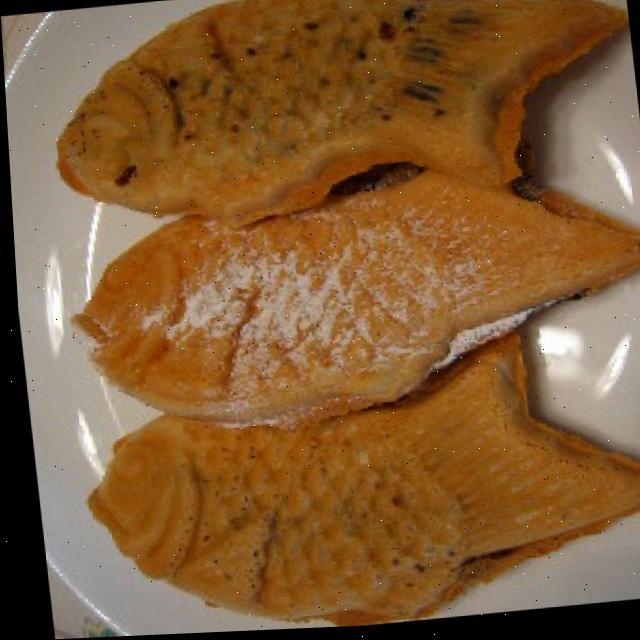熟制海鲜: (22, 0, 640, 636)
